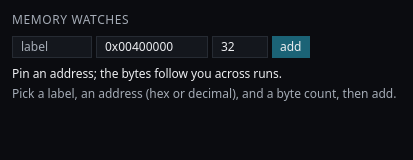
it: MemoryWatches › rejects hex digits without the 0x prefix instead of guessing
Type "bare" into the field named "watch label". click: {"x": 52, "y": 47}
box: [12,36,92,58]
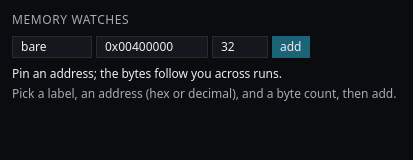
Type "4000a0" into the field named "watch address". click: {"x": 152, "y": 47}
box: [96,36,208,58]
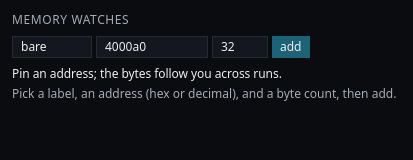
Replace the text in the number field named "watch byte length" with "4". click: {"x": 240, "y": 47}
box: [212,36,268,58]
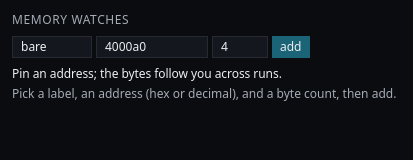
Click the button "add". click: {"x": 291, "y": 47}
box: [272,36,310,58]
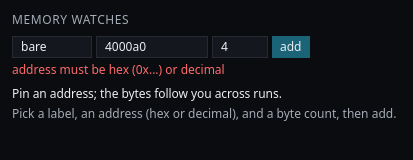
Check: the message "address must be hex (0x...) or decimal" is shown, box [12,61,225,78]
